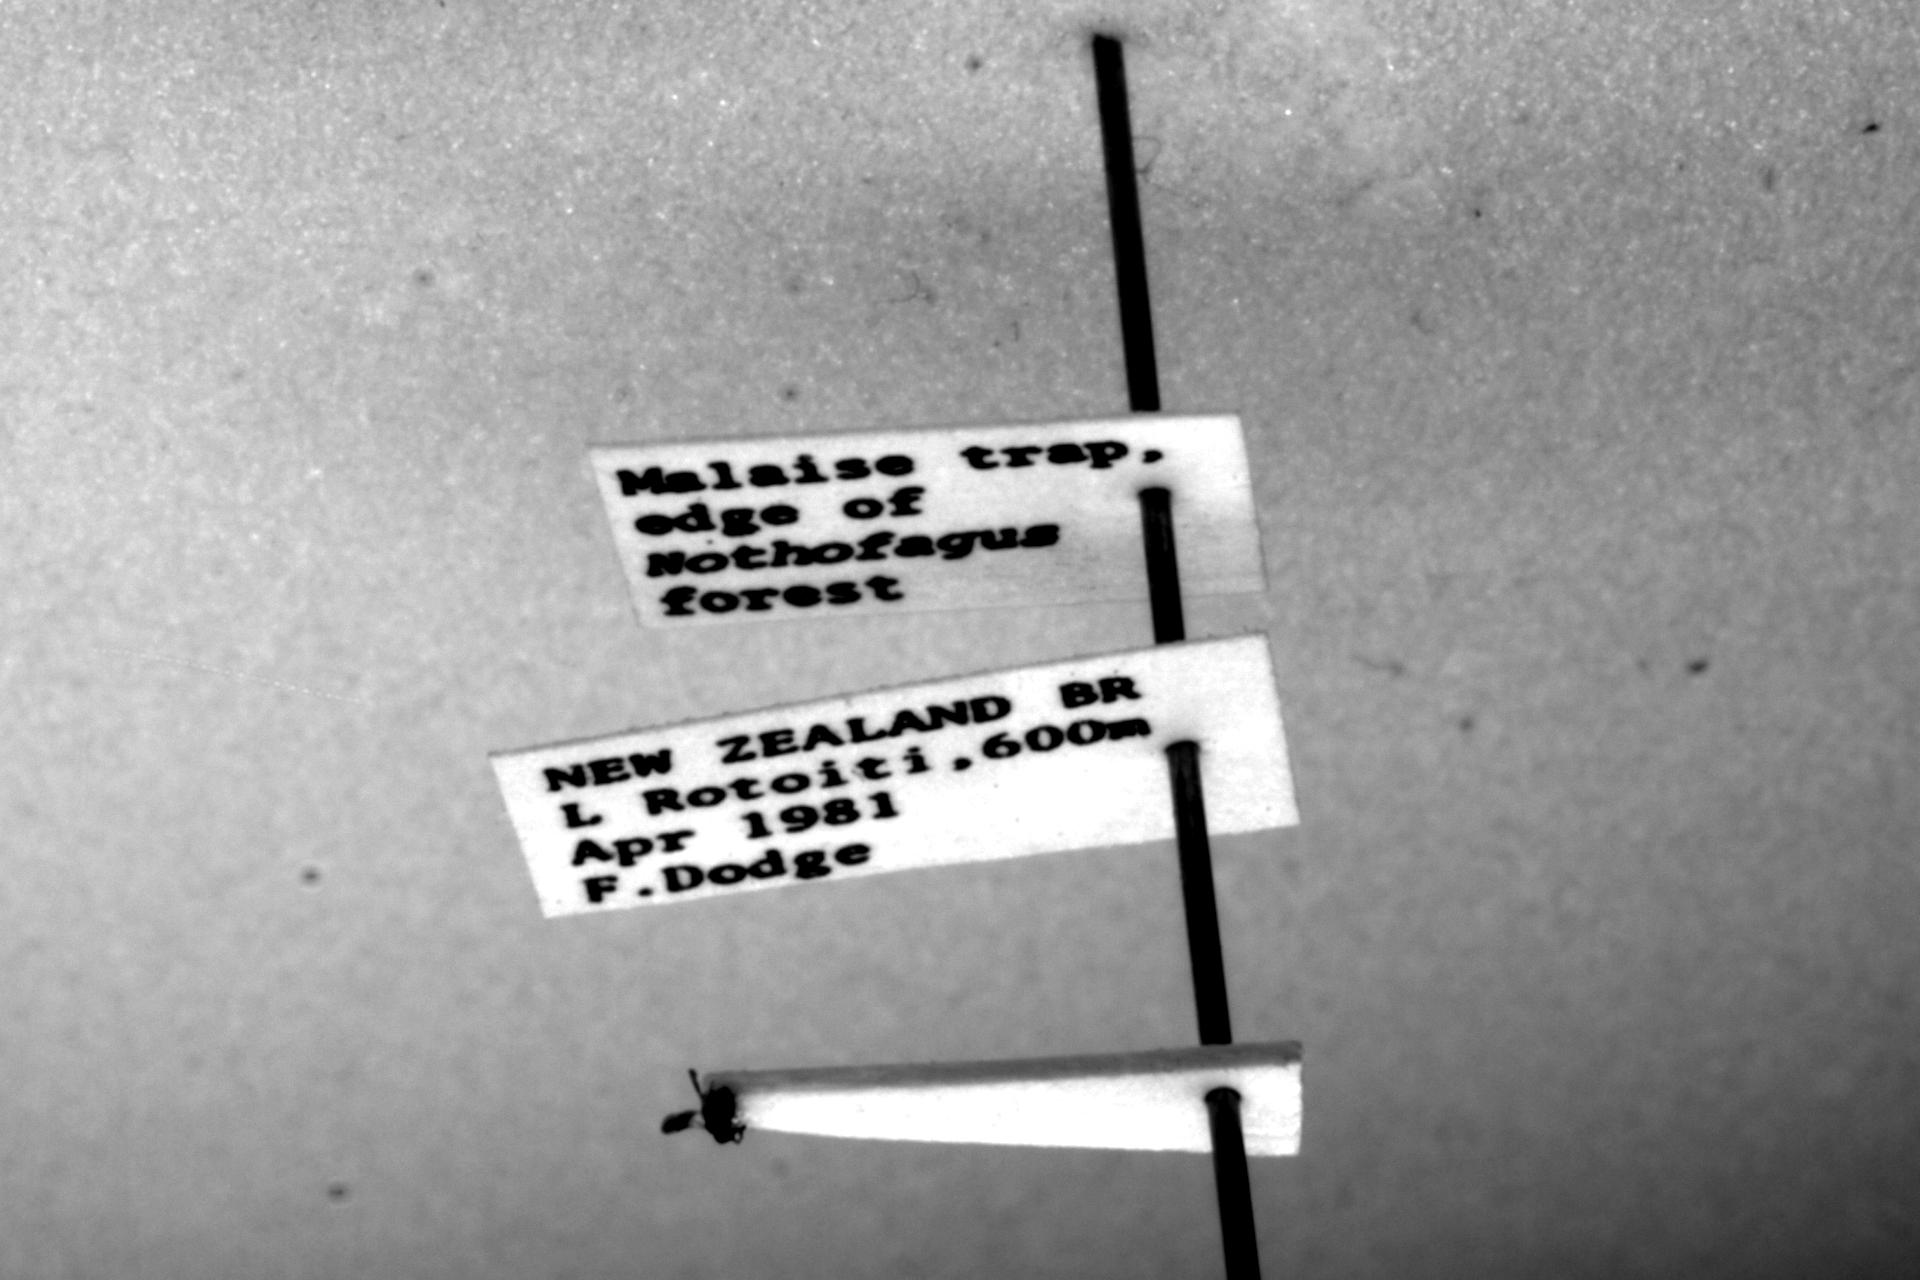typed_label: (491, 634, 1298, 919), (592, 412, 1268, 626)
